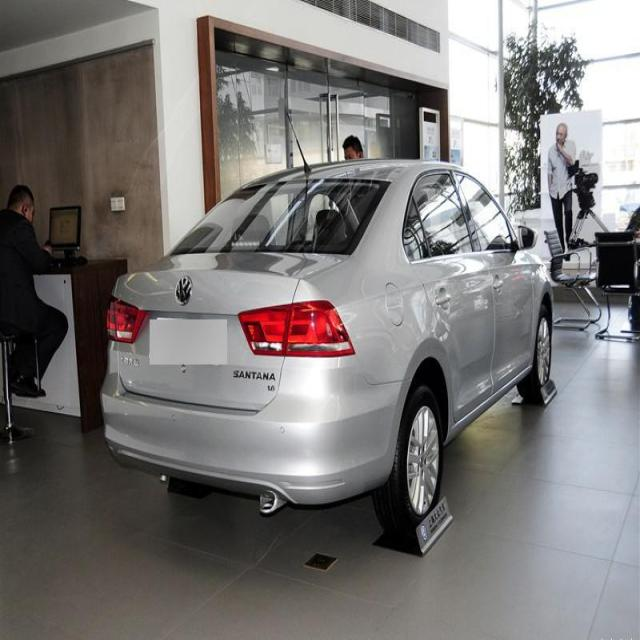back_left_side_light: (170, 176, 391, 257), (103, 290, 150, 347)
back_right_side_light: (236, 296, 358, 360)
door: (403, 172, 493, 404)
front_right_side_door: (452, 167, 538, 402)
front_right_side_mirror: (512, 221, 539, 260)
rear_bumper: (99, 336, 412, 512)
wheel: (376, 382, 444, 542), (518, 301, 552, 401)
